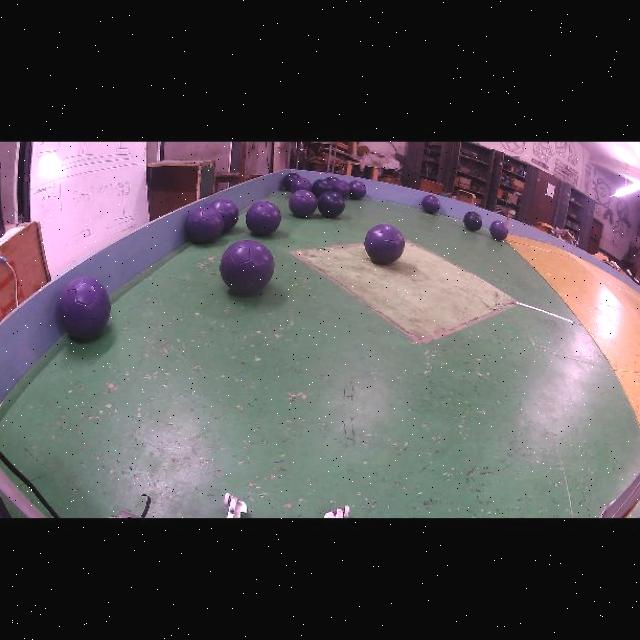B: (318, 190, 345, 217), (463, 210, 483, 230)
P: (58, 275, 110, 338), (220, 239, 275, 294), (364, 223, 405, 264), (186, 205, 224, 243), (246, 200, 281, 235), (211, 198, 239, 231), (289, 189, 318, 217), (489, 219, 509, 240), (421, 194, 441, 213), (290, 176, 313, 192)
